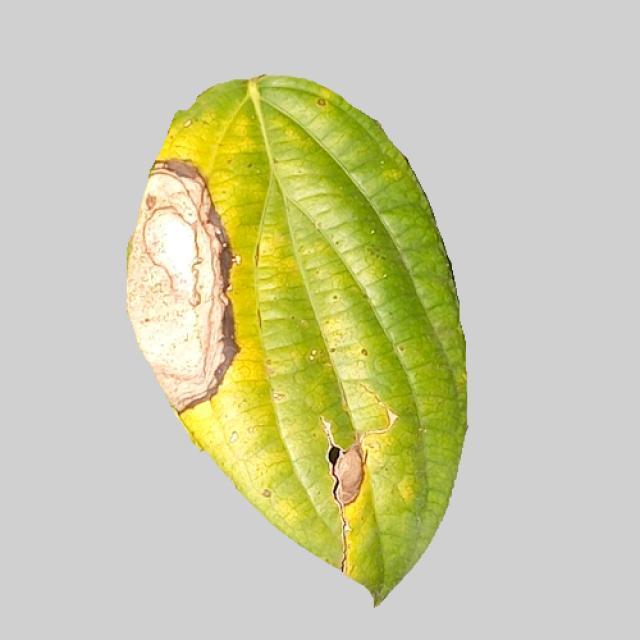leaf-blight: (113, 83, 472, 603)
